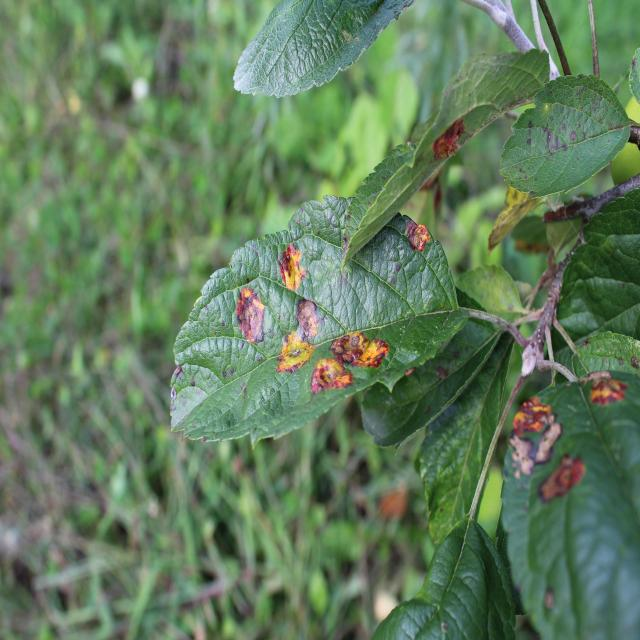rust: (170, 194, 465, 445), (499, 370, 640, 640)
